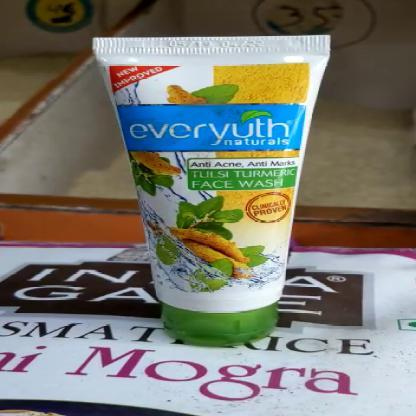EY AAAM TULSI TURMERIC FACEWASH50G: (111, 38, 299, 330)
